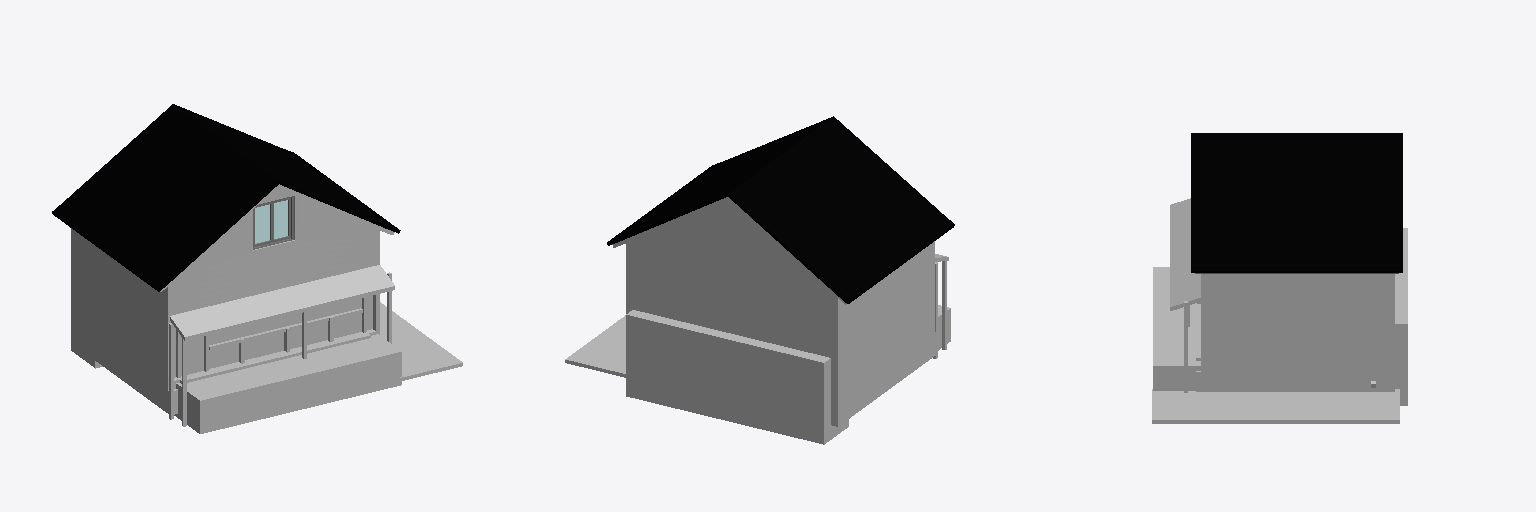
File: House.obj
3 views of the same model, side by side, from view 1: azimuth 30°, elevation 25°; view 2: azimuth 150°, elevation 25°; view 3: azimuth 270°, elevation 25° (orthographic).
Parts seen in each view (by area): view 1: Cube; view 2: Cube; view 3: Cube.
Part boxes in pixels (x1,y1,x2,y2): Cube: (52, 104, 462, 433); Cube: (565, 116, 954, 444); Cube: (1152, 133, 1407, 423).
Bounding box in the file's own units: 1.6 × 1.2 × 1.25.